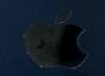scratch: (7, 11, 92, 74), (0, 0, 8, 60)
